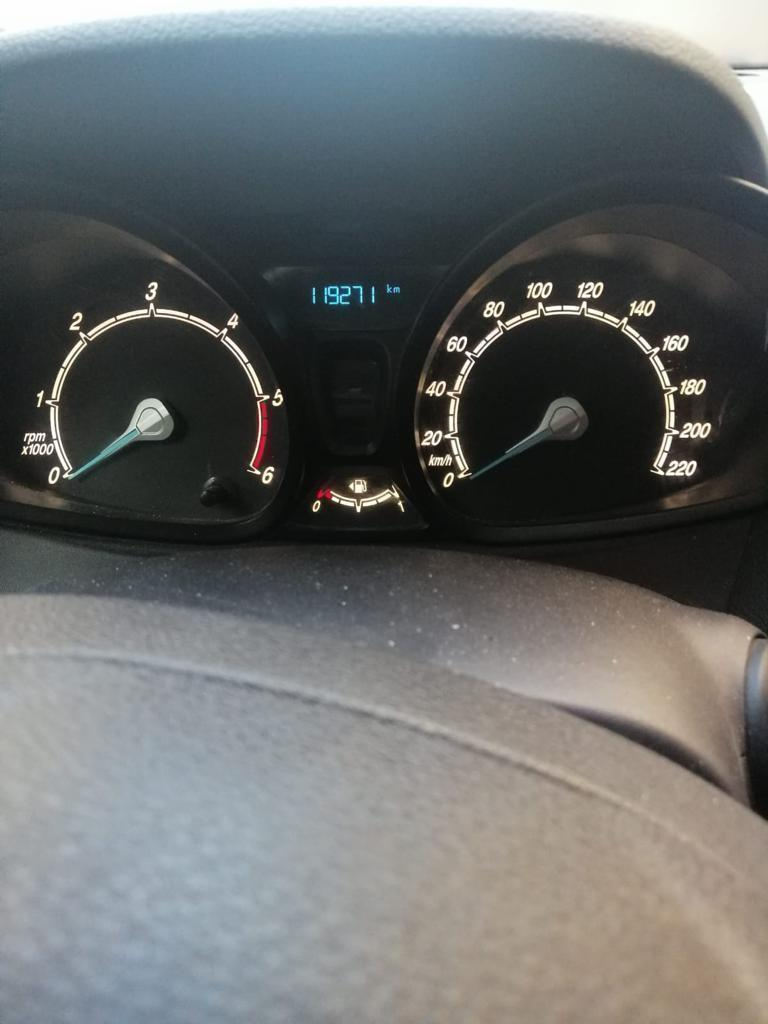1: (309, 284, 318, 305), (368, 283, 377, 304), (320, 285, 327, 305)
2: (339, 284, 351, 306)
7: (351, 284, 364, 304)
9: (327, 284, 339, 305)
X: (385, 281, 392, 294), (392, 285, 401, 294)
odometer: (264, 272, 434, 337)
